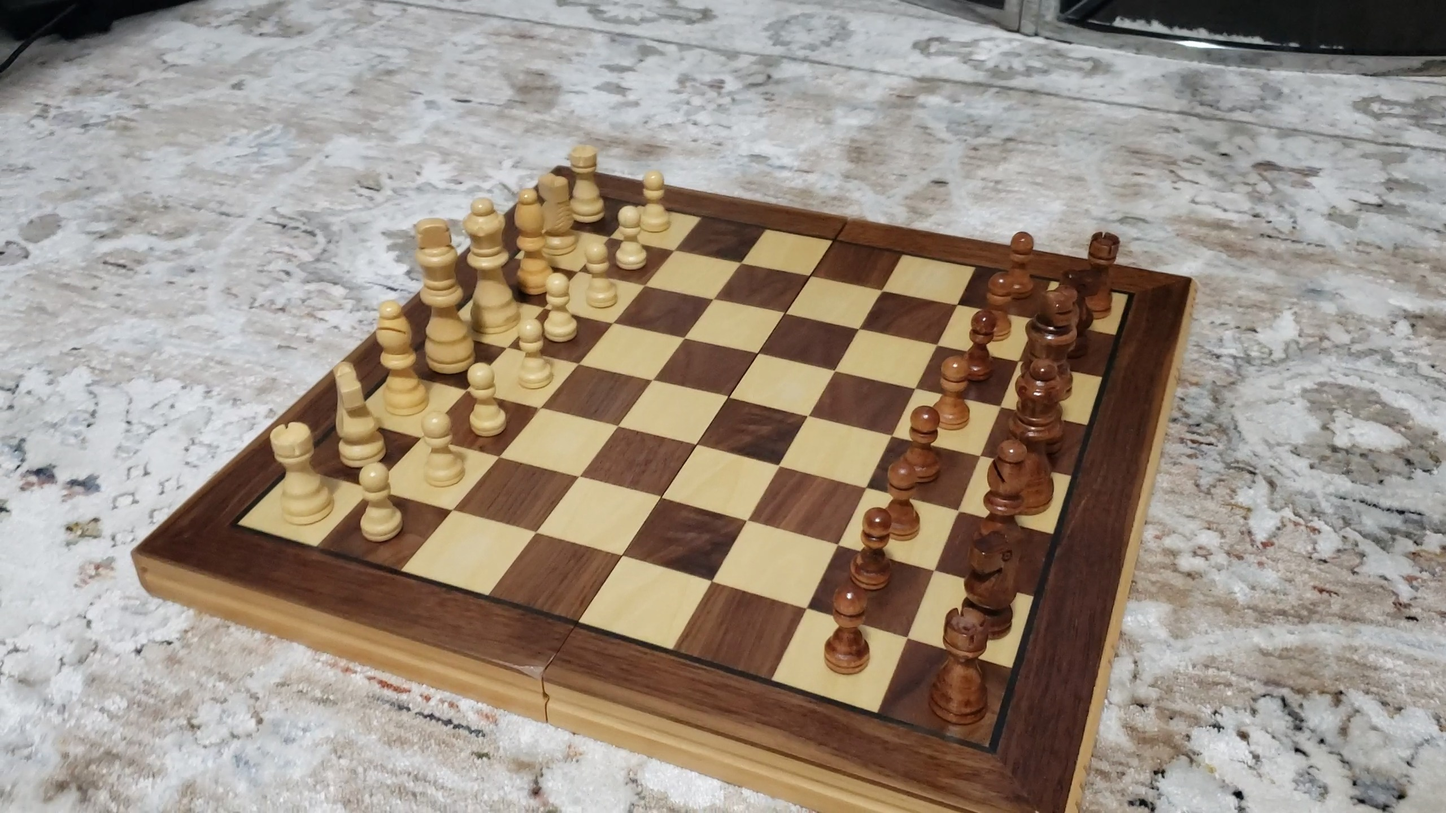black-bishop: (967, 434, 1043, 529)
black-king: (1015, 282, 1084, 372)
black-knight: (960, 526, 1021, 623)
black-pawn: (993, 220, 1043, 317), (823, 581, 870, 676), (879, 460, 923, 542), (958, 306, 1006, 381), (850, 510, 894, 591), (898, 407, 942, 482), (979, 266, 1020, 339), (936, 354, 976, 427)
black-queen: (1002, 350, 1072, 447)
black-rook: (929, 613, 993, 725), (1072, 225, 1126, 320)
white-bishop: (375, 300, 429, 415), (514, 185, 552, 294)
white-king: (413, 215, 470, 380)
white-knight: (334, 358, 390, 466), (535, 167, 583, 256)
white-pawn: (353, 459, 409, 546), (635, 162, 679, 240), (422, 409, 465, 486), (466, 366, 506, 439), (580, 237, 617, 313), (542, 270, 576, 342), (518, 321, 553, 389), (614, 206, 647, 272)
white-queen: (464, 195, 517, 340)
white-rook: (270, 418, 333, 523), (568, 143, 604, 223)
